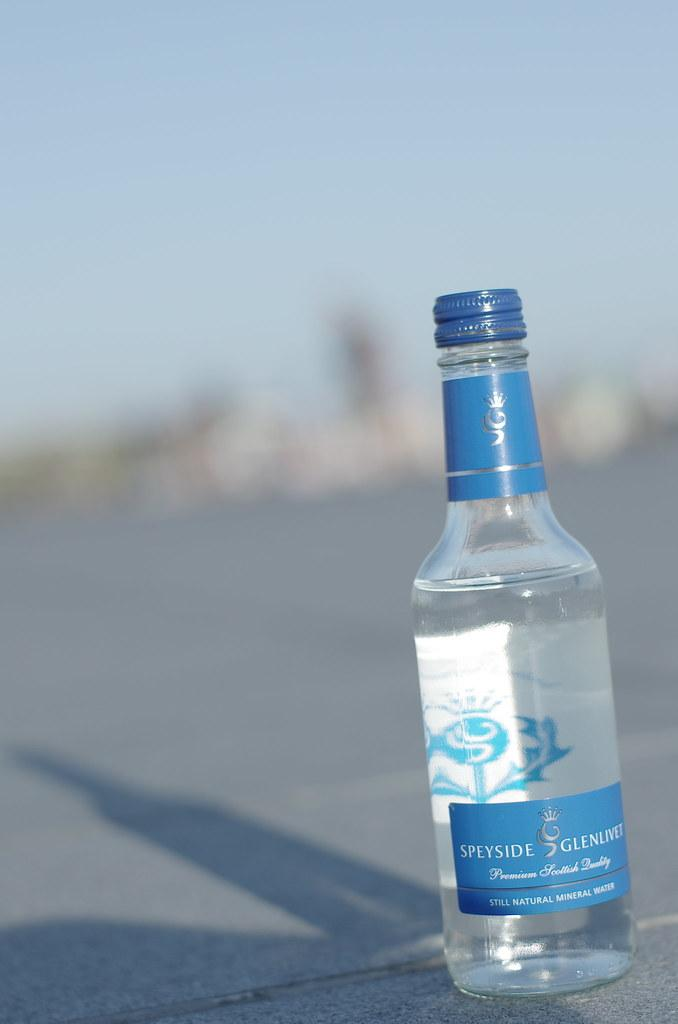bottle: (410, 287, 638, 1001)
